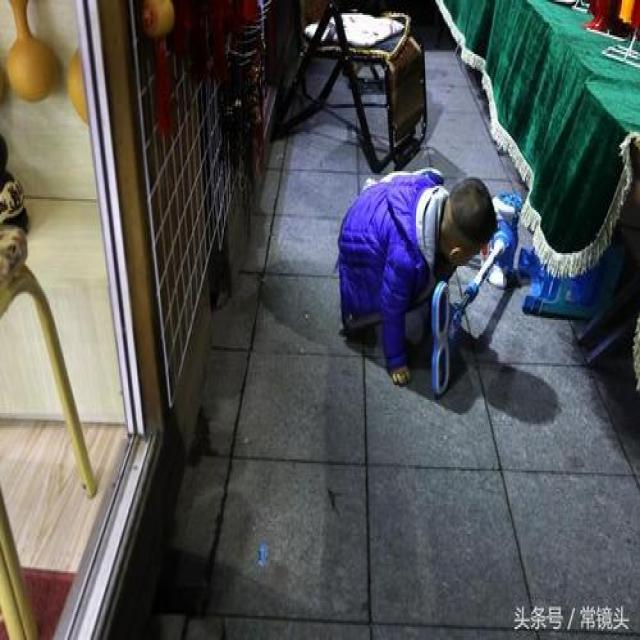down: (315, 160, 504, 389)
